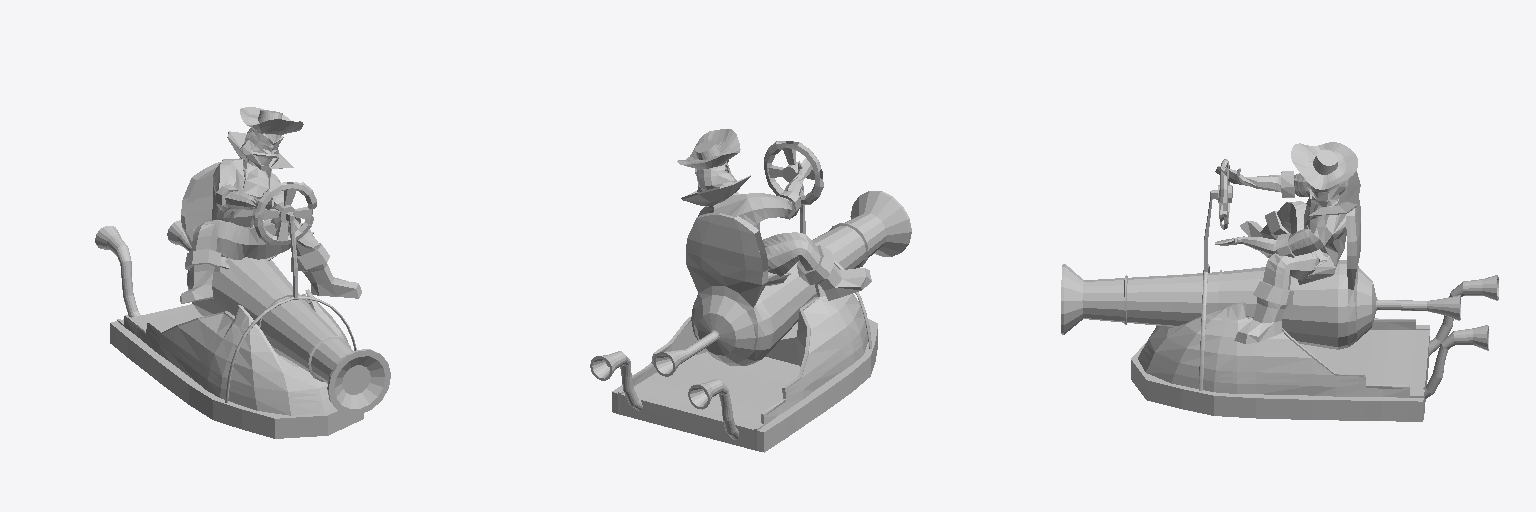
The model's file is pirataGiroDER_000393.obj.
3 views of the same model, side by side, from view 1: azimuth 30°, elevation 25°; view 2: azimuth 150°, elevation 25°; view 3: azimuth 270°, elevation 25° (orthographic).
Visible parts, largest first — view 1: carro_pirata, Pirata_PirataH; view 2: carro_pirata, Pirata_PirataH; view 3: carro_pirata, Pirata_PirataH.
Boxes of the visible parts, <box> form: carro_pirata: <box>95,162,390,438</box>; Pirata_PirataH: <box>180,107,361,303</box>; carro_pirata: <box>590,141,911,452</box>; Pirata_PirataH: <box>677,129,871,300</box>; carro_pirata: <box>1061,159,1498,421</box>; Pirata_PirataH: <box>1215,142,1360,343</box>.
Bounding box in the file's own units: 5.68 × 7.58 × 12.1.